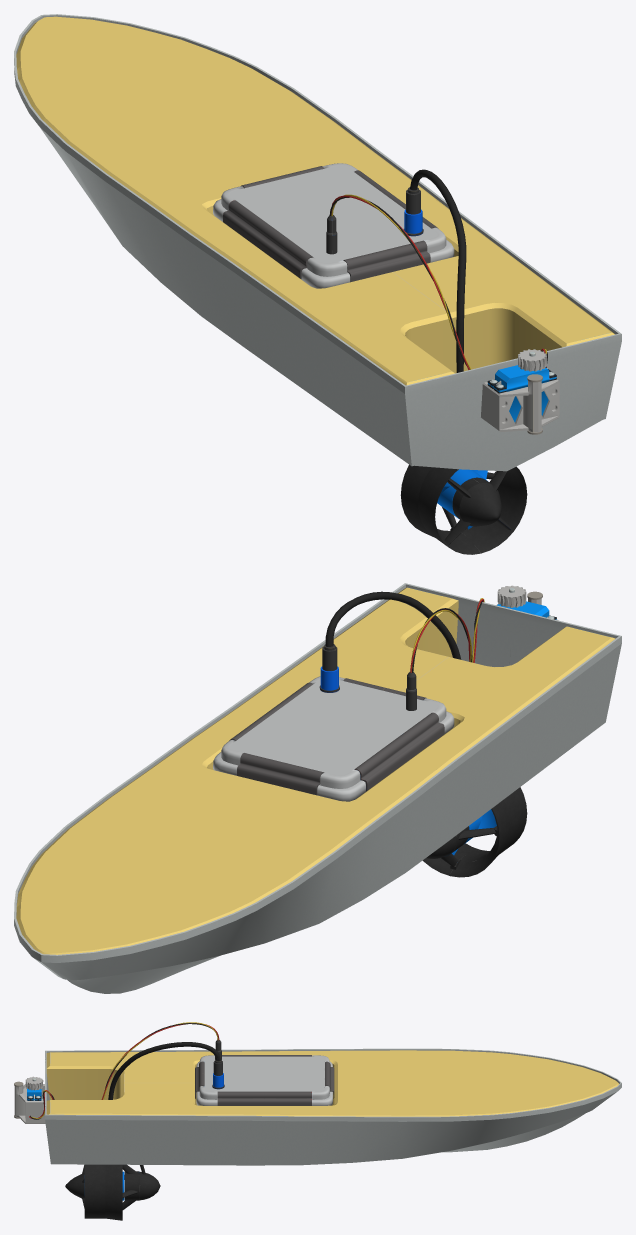
Rendered from rcboat.dae.
3 renders of one model, top to bottom at view 1: azimuth 30°, elevation 25°; view 2: azimuth 150°, elevation 25°; view 3: azimuth 270°, elevation 25°, orthographic. The views are drawn at different scales.
Parts seen in each view (by area): view 1: Boat, Thruster, Propeller; view 2: Boat, Thruster; view 3: Boat, Thruster.
Boxes of the visible parts, <box> form: Boat: <box>14,14,621,471</box>; Thruster: <box>400,464,527,554</box>; Propeller: <box>437,469,488,529</box>; Boat: <box>14,583,621,993</box>; Thruster: <box>422,787,527,877</box>; Boat: <box>14,1022,621,1174</box>; Thruster: <box>65,1164,160,1220</box>.
Bounding box in the file's own units: 22.71 × 84.72 × 28.84.
Materials: 1 (1 with a texture image).
